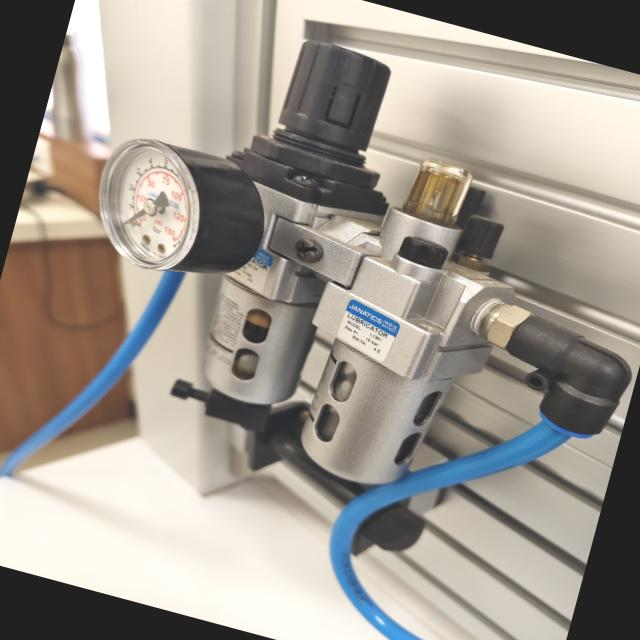FRL unit: (16, 0, 640, 615)
